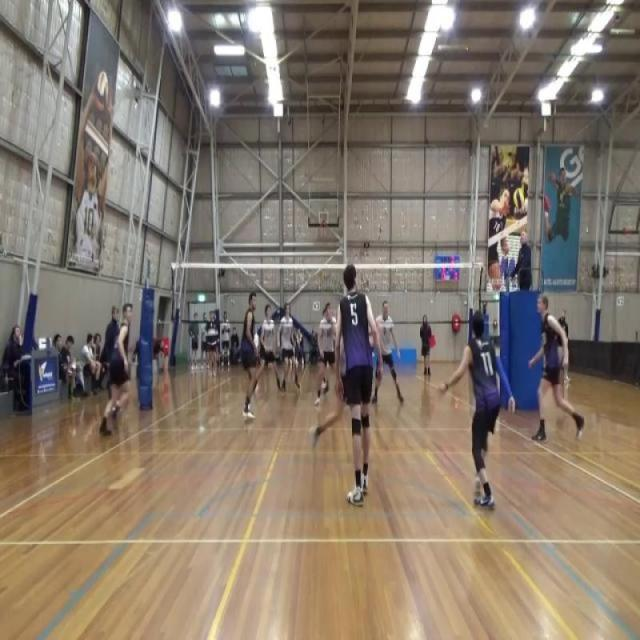volleyball: (95, 68, 108, 114), (513, 187, 525, 210)
